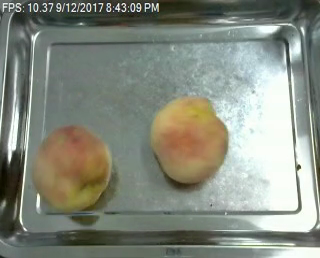Peach: (149, 95, 229, 184), (31, 123, 111, 211)
